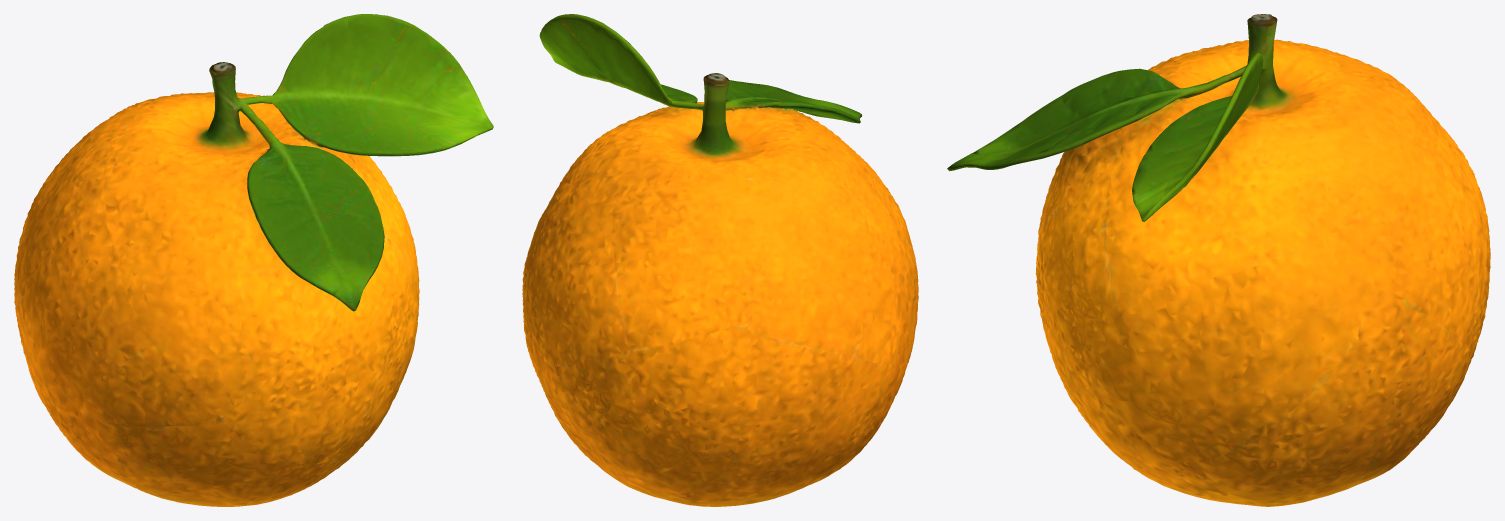
3 renders of one model, left to right at view 1: azimuth 30°, elevation 25°; view 2: azimuth 150°, elevation 25°; view 3: azimuth 270°, elevation 25°, orthographic. The views are drawn at different scales.
Parts seen in each view (by area): view 1: mesh_node; view 2: mesh_node; view 3: mesh_node.
Boxes of the visible parts, bbox=[...] form: mesh_node: bbox=[14, 14, 493, 506]; mesh_node: bbox=[522, 14, 918, 506]; mesh_node: bbox=[947, 14, 1490, 506].
Bounding box in the file's own units: 1.81 × 1.86 × 1.9.
1 material, 1 textured.
